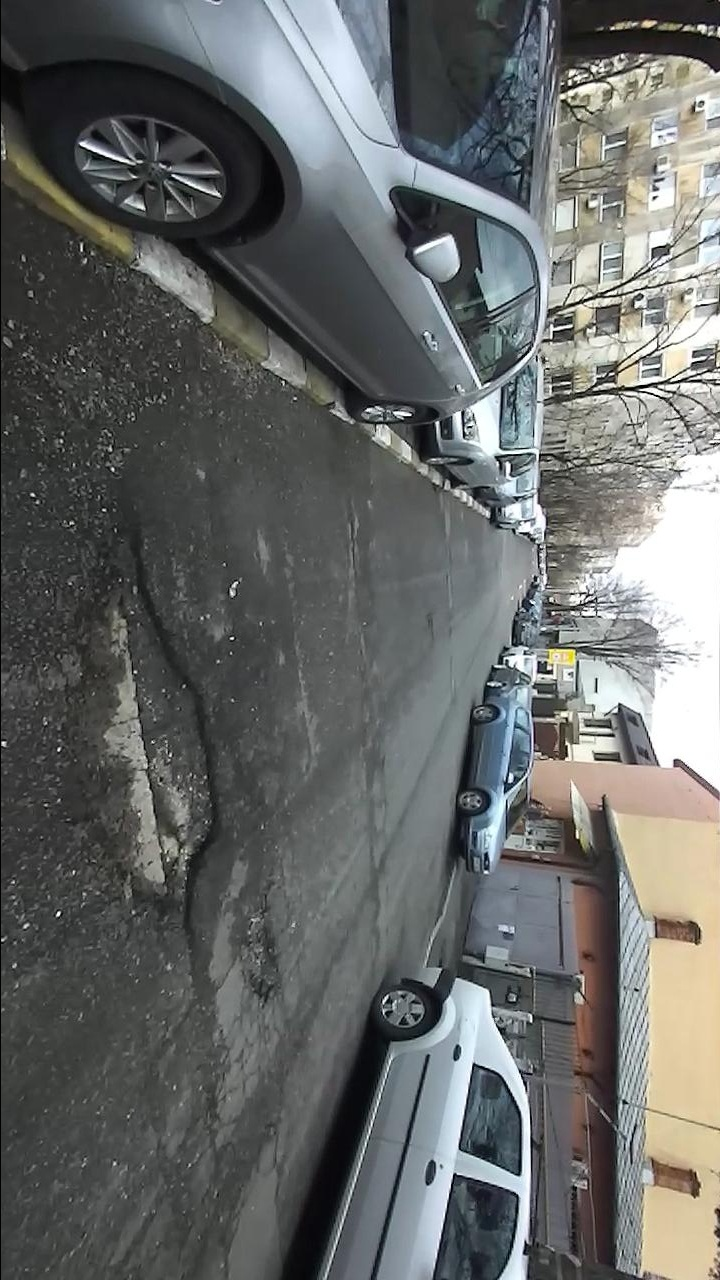pothole: (55, 510, 229, 942), (236, 879, 288, 1016), (341, 498, 363, 583)
